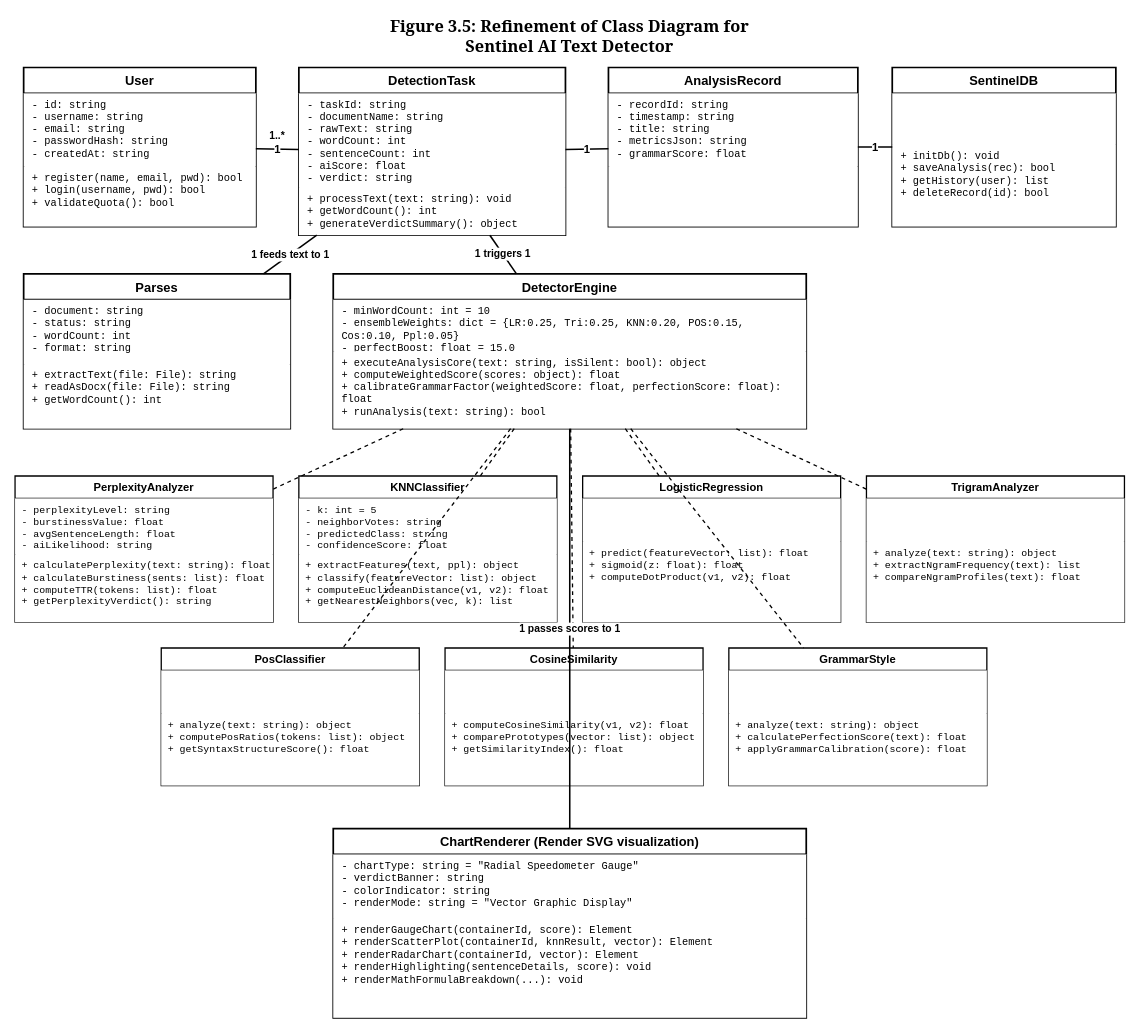
This 1140x1034 diagram has some shape labels left out. Each missing label, with the centre of its shape:
+ toJSON(): string + saveToDb(): bool + fetchMetrics(): object: (732,196)
- aiModelMatch: float - humanModelMatch: float - cosineDistance: float: (574,691)
- dbFile: string = "sentinel.db" - connection: SQLiteConnection - status: string: (1003,118)
- ngramMatchScore: float - templateMatrix: list - vocabSize: int: (995,519)
- nounRatio: float - verbRatio: float - adjRatio: float: (290,691)
- perfectionScore: float - grammarFactor: float - typoExceptions: list: (857,691)
- weights: list - bias: float - numFeatures: int = 6: (711,519)
